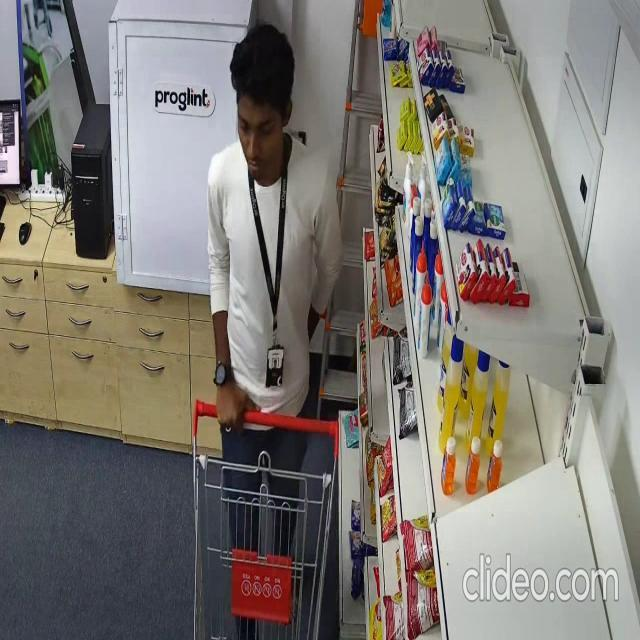Shoplifting: (202, 21, 344, 636)
